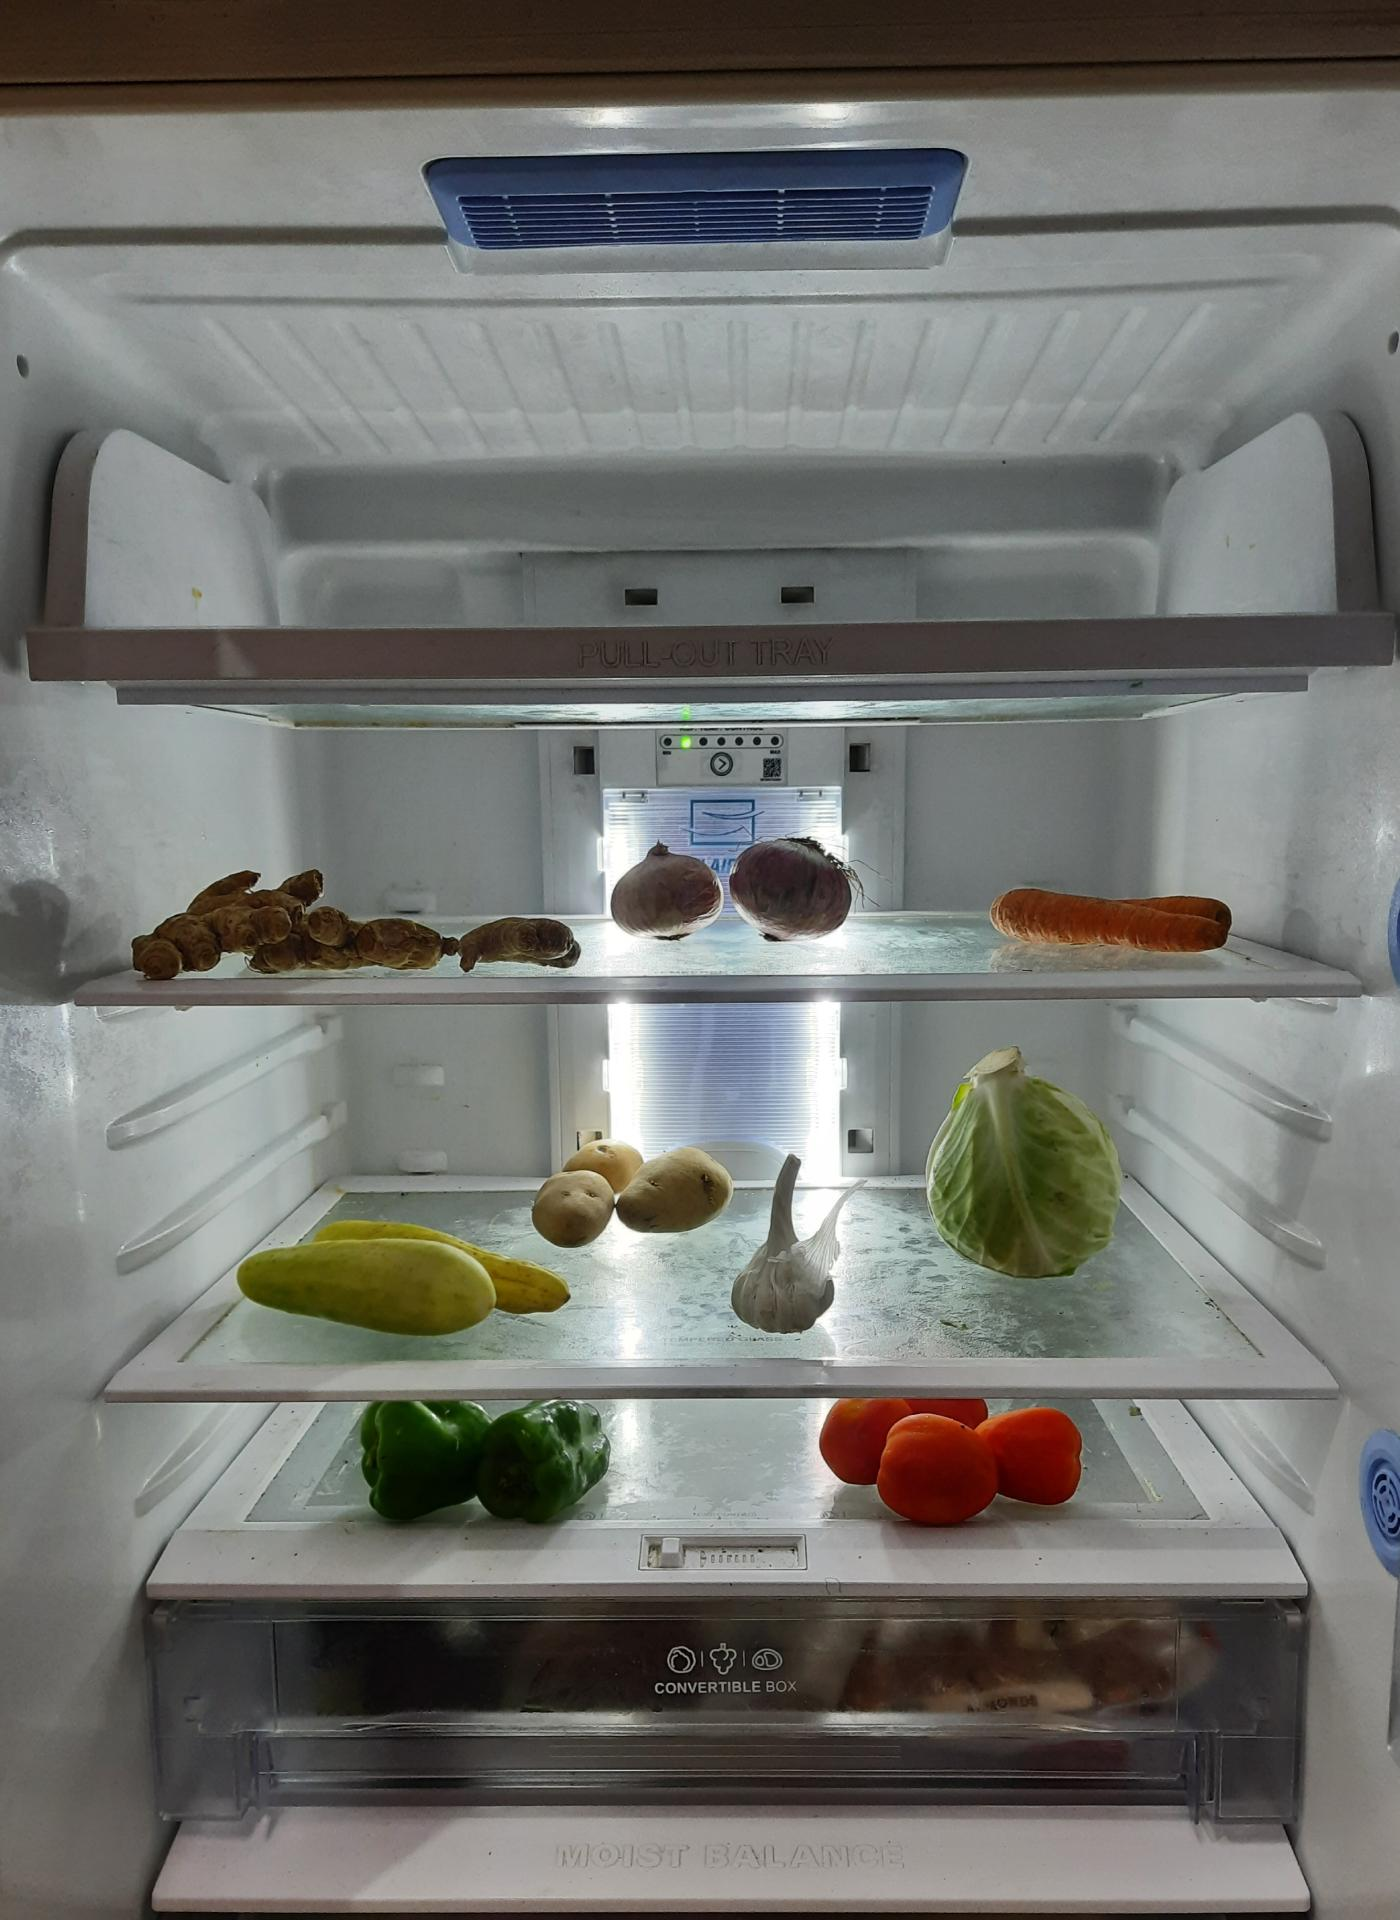cabbage: (923, 1058, 1127, 1282)
capsicum: (349, 1389, 607, 1513)
carrots: (988, 882, 1236, 957)
cucumber: (222, 1207, 578, 1339)
garlic: (732, 1146, 842, 1337)
ginger: (121, 868, 562, 988)
onion: (616, 829, 865, 944)
potato: (532, 1134, 744, 1251)
tomato: (808, 1400, 1085, 1526)
